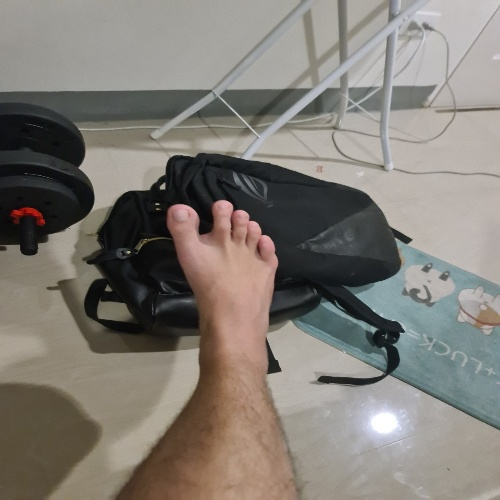3: (166, 202, 202, 249)
Top_Foot: (167, 198, 280, 386)
